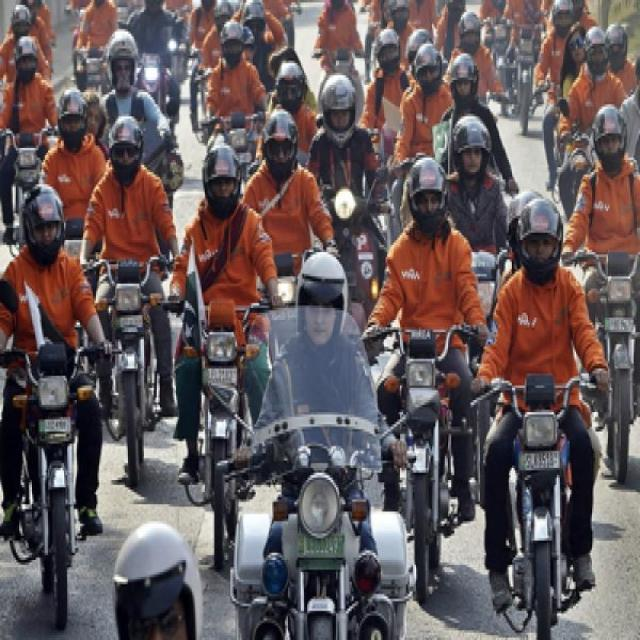Helmet: (296, 252, 348, 359), (400, 152, 451, 245), (519, 199, 562, 293), (18, 182, 66, 264), (102, 115, 144, 193), (316, 78, 362, 145), (198, 145, 236, 223), (452, 115, 488, 186), (591, 101, 627, 171), (257, 114, 294, 178), (56, 90, 88, 148), (274, 55, 307, 111), (452, 51, 481, 111), (112, 38, 140, 98), (608, 6, 630, 74), (376, 29, 408, 73), (543, 0, 576, 41), (218, 23, 243, 71), (586, 30, 613, 74), (242, 0, 269, 44), (419, 51, 442, 102), (15, 44, 42, 85), (459, 15, 486, 56), (12, 6, 33, 42), (390, 0, 413, 29)
